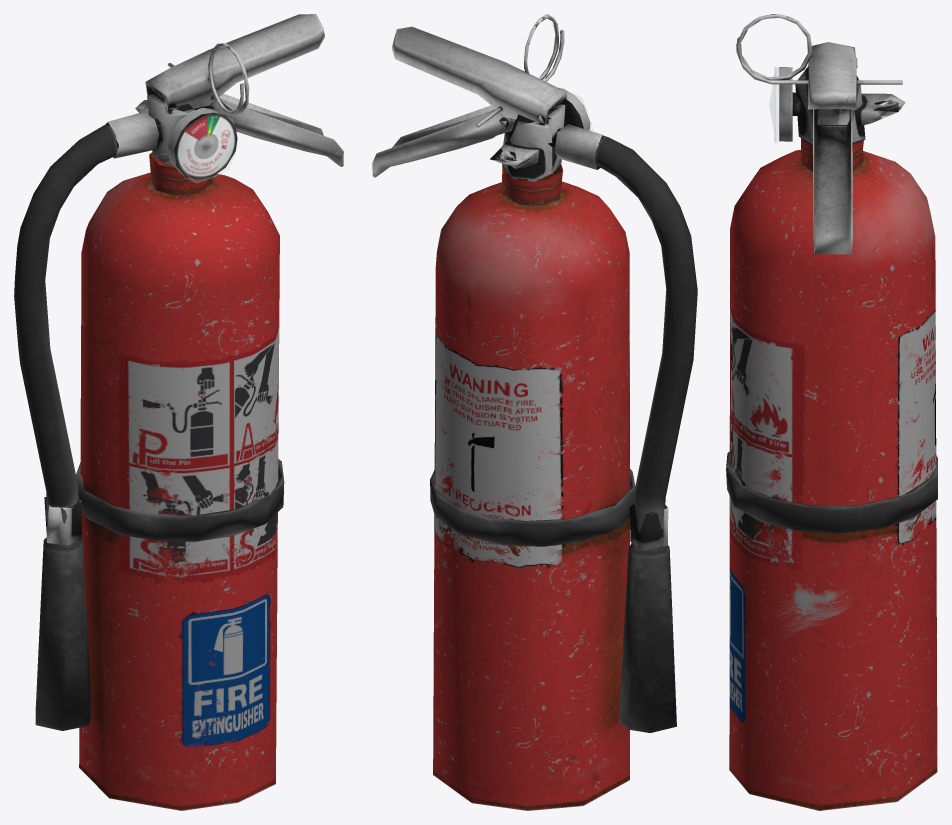
File: FireExtinguisher.fbx
The picture shows the model from 3 angles, left to right: view 1: azimuth 30°, elevation 25°; view 2: azimuth 150°, elevation 25°; view 3: azimuth 270°, elevation 25°; orthographic projection. The views are drawn at different scales.
Parts seen in each view (by area): view 1: Body, Hose, Base_Ring, Lever_Pivot, Label_Warning, Gauge_Rim, Upper_Handle_Grip, Squeeze_Lever, Valve_Body, Carry_Handle; view 2: Body, Hose, Base_Ring, Lever_Pivot, Label_Warning, Upper_Handle_Grip, Squeeze_Lever, Valve_Body, Carry_Handle, Lever_Mount_Bracket, Gauge_Rim; view 3: Body, Label_Warning, Upper_Handle_Grip, Lever_Pivot, Valve_Body, Carry_Handle, Gauge_Rim, Lever_Mount_Bracket, Gauge_Dial.
Boxes of the visible parts, x1=… form: Body: x1=79, y1=152, x2=279, y2=810; Hose: x1=14, y1=125, x2=117, y2=539; Base_Ring: x1=35, y1=535, x2=91, y2=730; Lever_Pivot: x1=145, y1=14, x2=324, y2=114; Label_Warning: x1=76, y1=459, x2=284, y2=541; Gauge_Rim: x1=168, y1=108, x2=237, y2=180; Upper_Handle_Grip: x1=194, y1=93, x2=343, y2=166; Squeeze_Lever: x1=44, y1=112, x2=162, y2=544; Valve_Body: x1=147, y1=94, x2=194, y2=165; Carry_Handle: x1=168, y1=43, x2=249, y2=114; Body: x1=433, y1=164, x2=629, y2=810; Hose: x1=595, y1=136, x2=697, y2=547; Base_Ring: x1=618, y1=543, x2=676, y2=732; Lever_Pivot: x1=391, y1=26, x2=567, y2=126; Label_Warning: x1=430, y1=469, x2=635, y2=546; Upper_Handle_Grip: x1=372, y1=105, x2=515, y2=177; Squeeze_Lever: x1=548, y1=124, x2=668, y2=550; Valve_Body: x1=502, y1=103, x2=565, y2=181; Carry_Handle: x1=476, y1=14, x2=564, y2=127; Lever_Mount_Bracket: x1=490, y1=141, x2=540, y2=168; Gauge_Rim: x1=559, y1=88, x2=590, y2=130; Body: x1=729, y1=137, x2=937, y2=810; Label_Warning: x1=726, y1=451, x2=937, y2=533; Upper_Handle_Grip: x1=813, y1=109, x2=852, y2=254; Lever_Pivot: x1=808, y1=42, x2=856, y2=109; Valve_Body: x1=795, y1=66, x2=865, y2=146; Carry_Handle: x1=736, y1=14, x2=902, y2=84; Gauge_Rim: x1=779, y1=67, x2=802, y2=141; Lever_Mount_Bracket: x1=857, y1=93, x2=905, y2=126; Gauge_Dial: x1=769, y1=67, x2=778, y2=142.
Size of the model in its own units: 73.47 by 163 by 40.91.
Materials: 3 (2 with a texture image).
